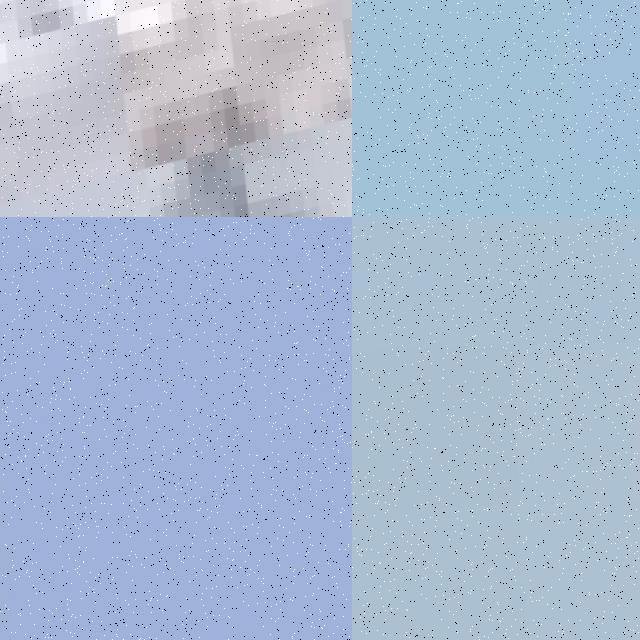drone: (0, 0, 352, 217)
